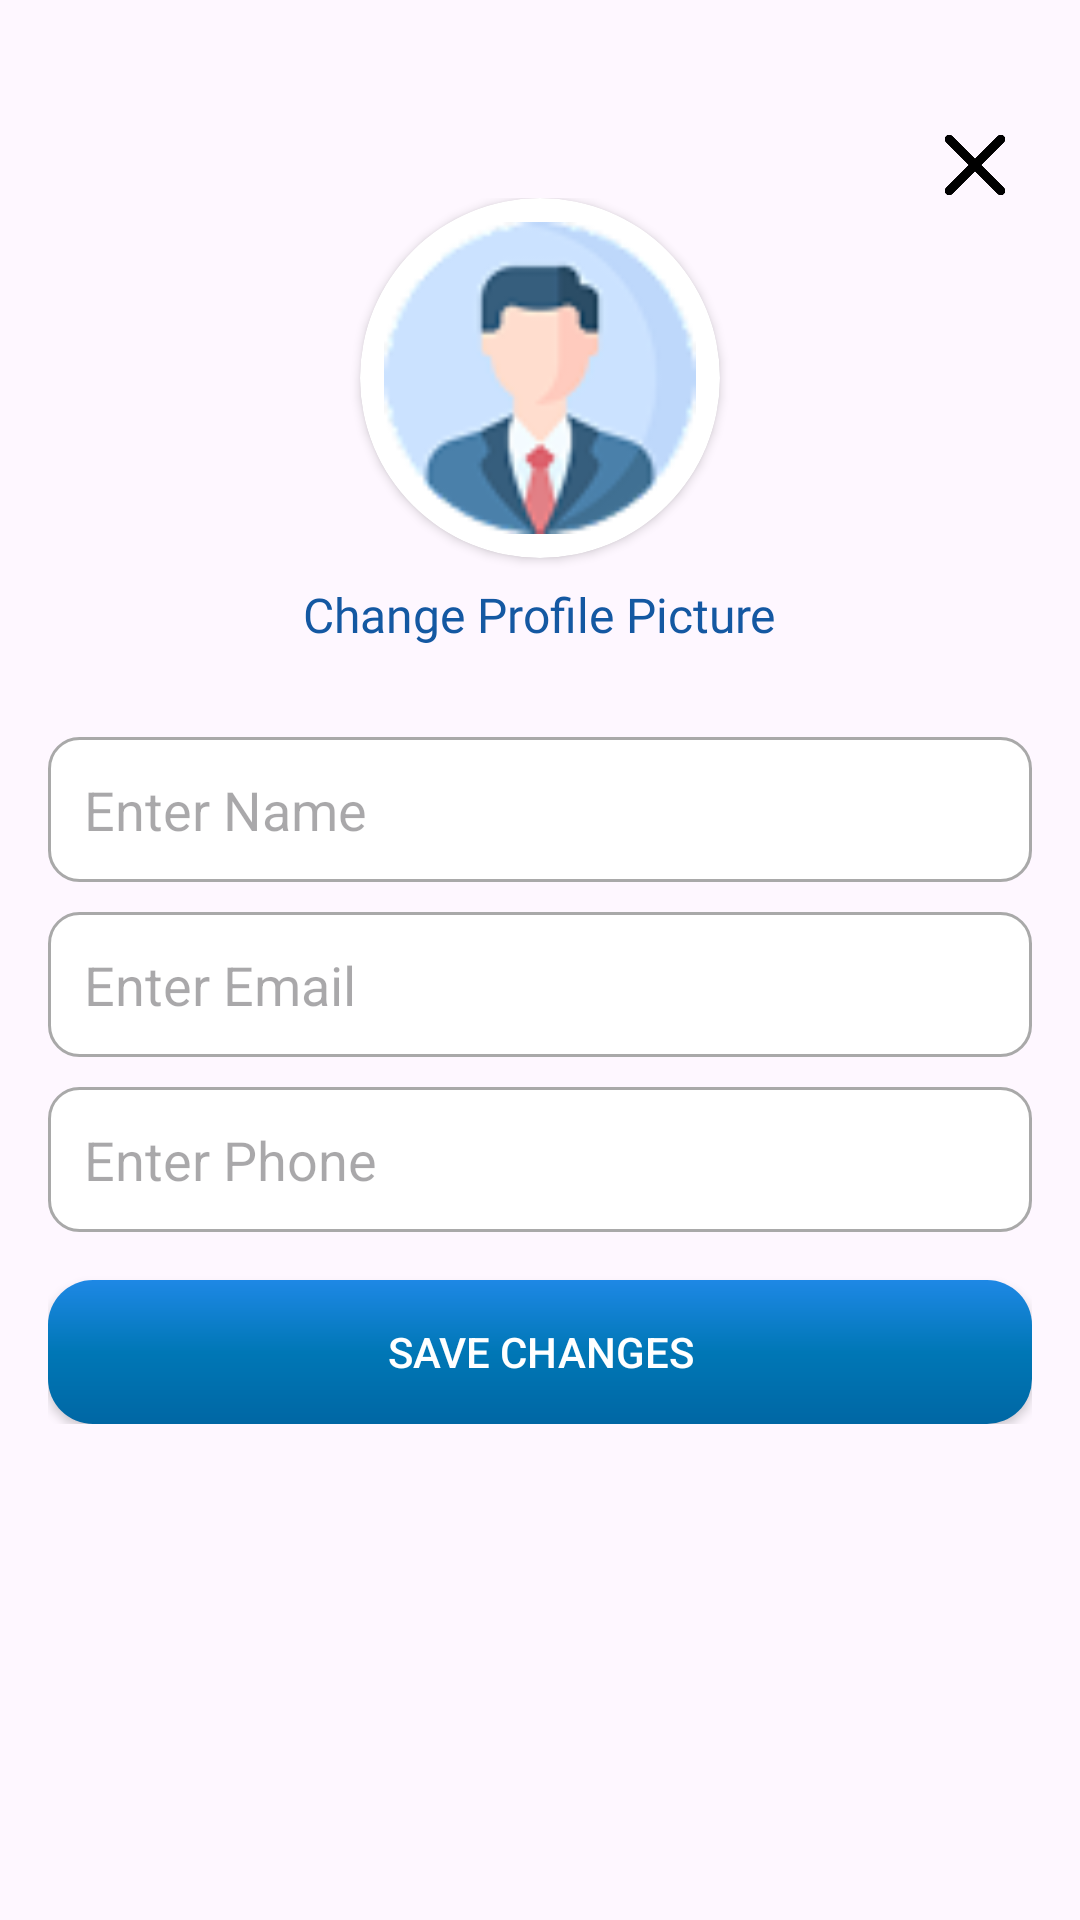

Where to tap for icons on this 1080*1920 app screen, as [x,y]:
wrong: [975,165]
